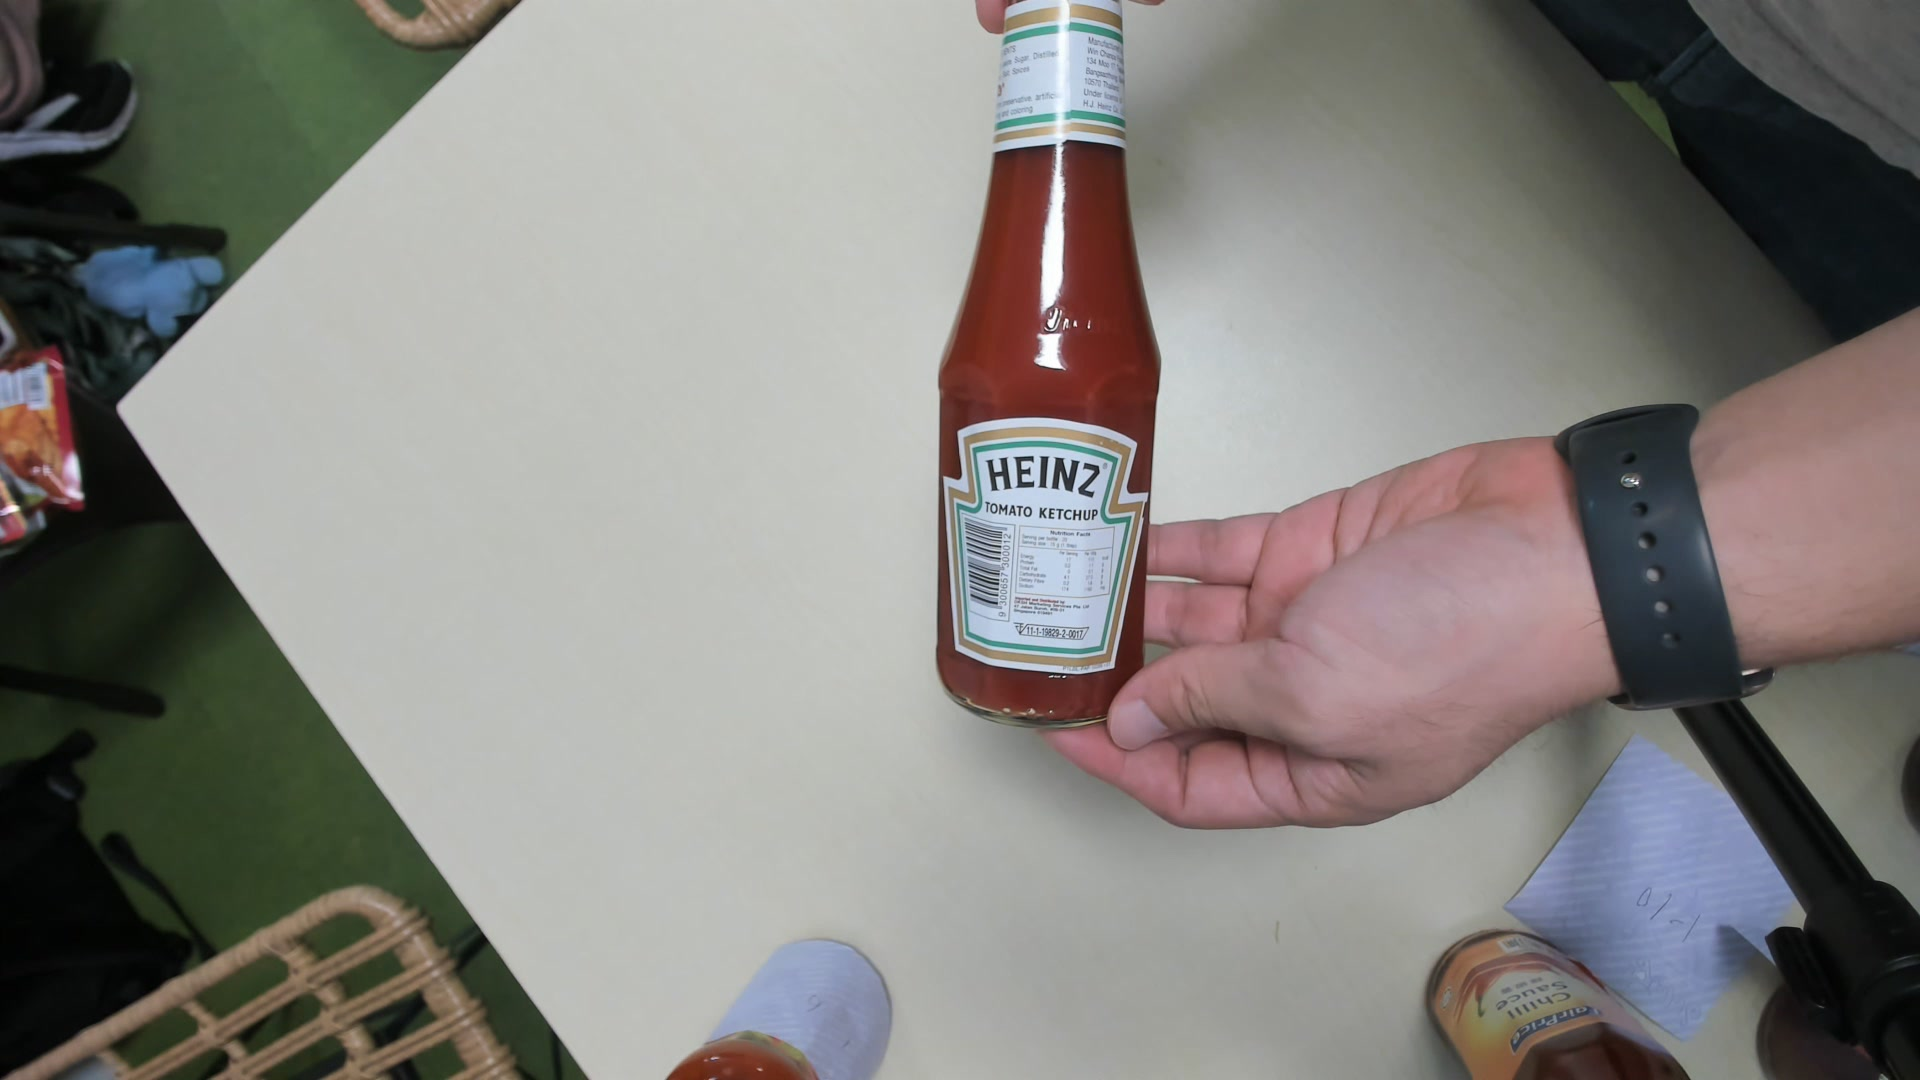KetchupChillSauce_300-399g_Halal_NonHealthy: (928, 8, 1163, 731)
